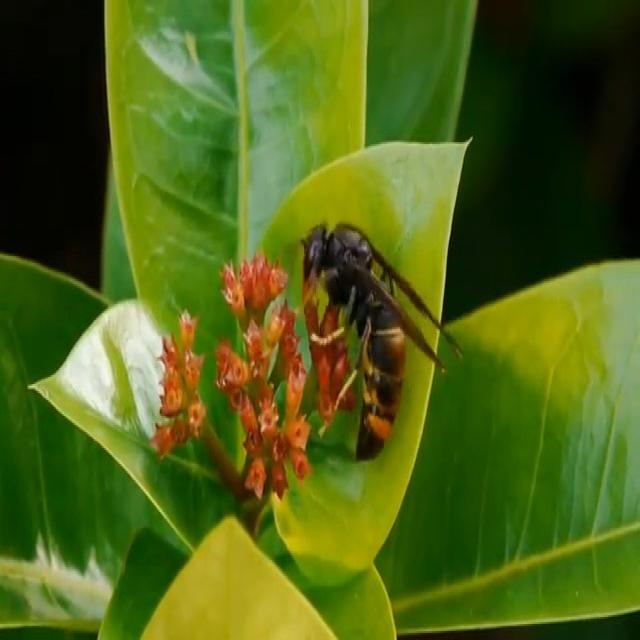Hornets: (290, 211, 465, 468)
